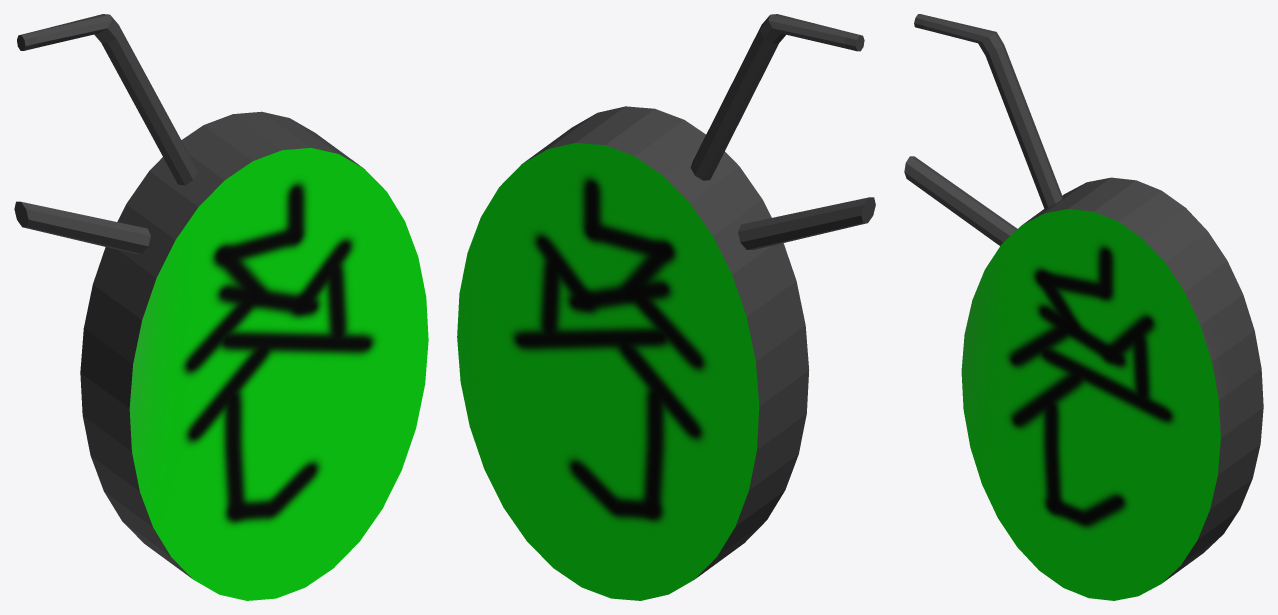
Rendered from oval sign.obj.
The picture shows the model from 3 angles, left to right: view 1: azimuth 30°, elevation 25°; view 2: azimuth 150°, elevation 25°; view 3: azimuth 330°, elevation 25°; orthographic projection. The views are drawn at different scales.
Parts seen in each view (by area): view 1: oval_sign_Cylinder; view 2: oval_sign_Cylinder; view 3: oval_sign_Cylinder.
Boxes of the visible parts, x1,y1,x2,y2 form: oval_sign_Cylinder: [14, 14, 428, 600]; oval_sign_Cylinder: [457, 14, 875, 600]; oval_sign_Cylinder: [904, 14, 1263, 600].
Size of the model in its own units: 1.81 by 2.69 by 0.4029.
